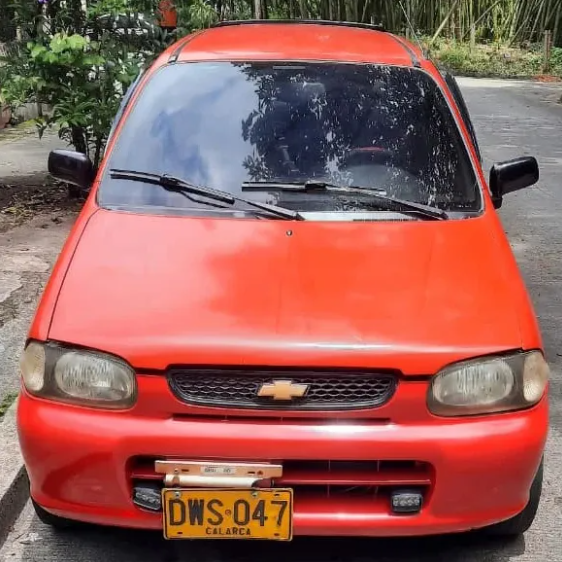placa: (159, 487, 297, 543)
